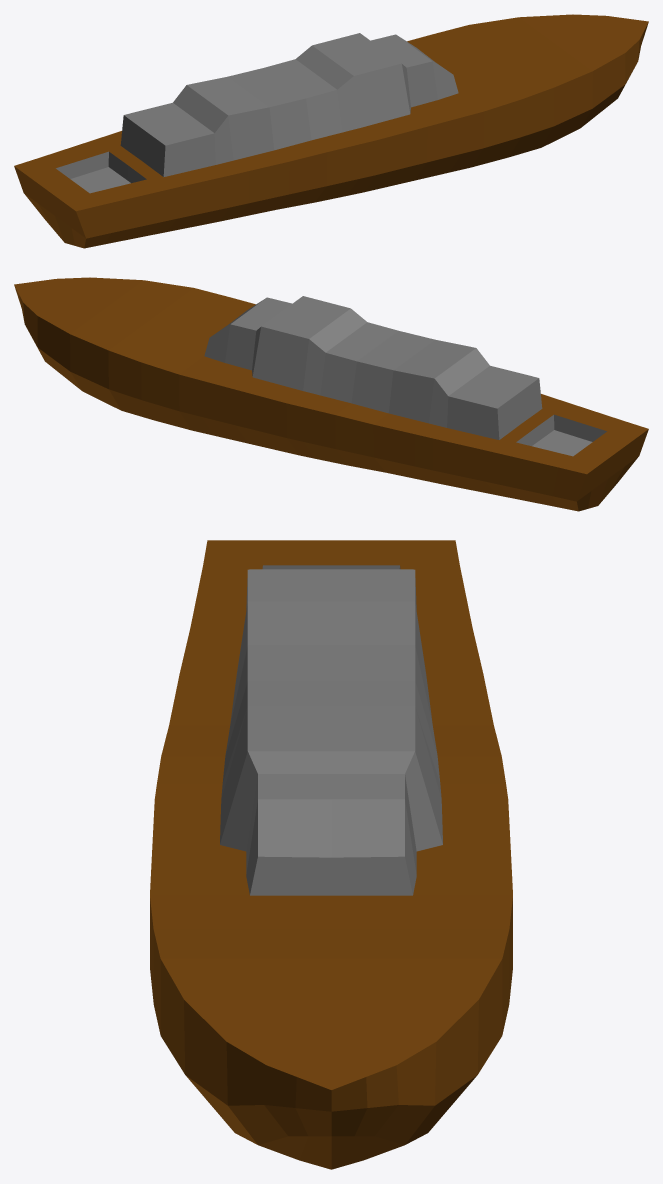
The model's file is Ship_PT_109_Torpedo.obj.
The picture shows the model from 3 angles, top to bottom: view 1: azimuth 30°, elevation 25°; view 2: azimuth 150°, elevation 25°; view 3: azimuth 270°, elevation 25°; orthographic projection. The views are drawn at different scales.
Parts seen in each view (by area): view 1: PT-109-Test; view 2: PT-109-Test; view 3: PT-109-Test.
Part boxes in pixels (x1,y1,x2,y2): PT-109-Test: (14, 14, 648, 248); PT-109-Test: (14, 277, 648, 511); PT-109-Test: (150, 540, 512, 1169).
Bounding box in the file's own units: 4.53 × 0.8421 × 1.18.
